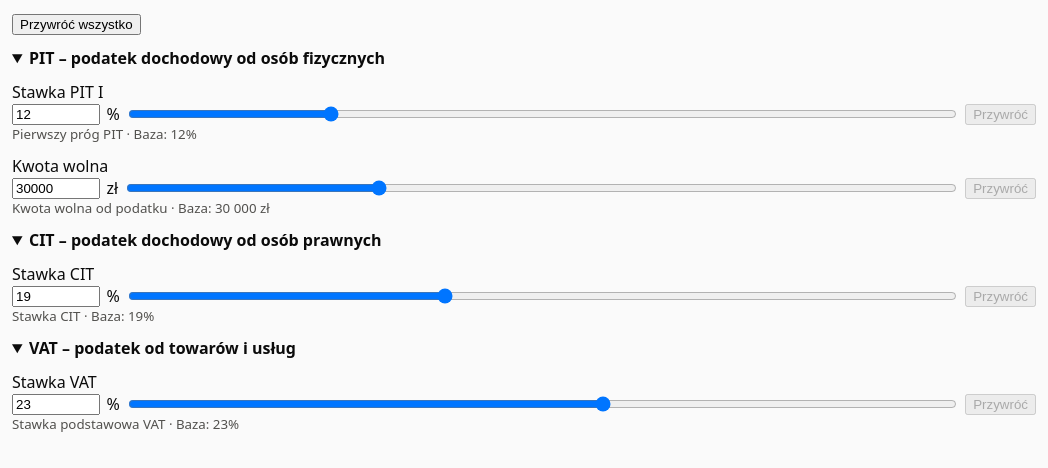
Test: ParameterPanel › per-parameter reset clears stale invalid text at default
Replace the text in the field labelled "Stawka CIT" with "80" at coordinates (56, 296), box [12,286,100,306]
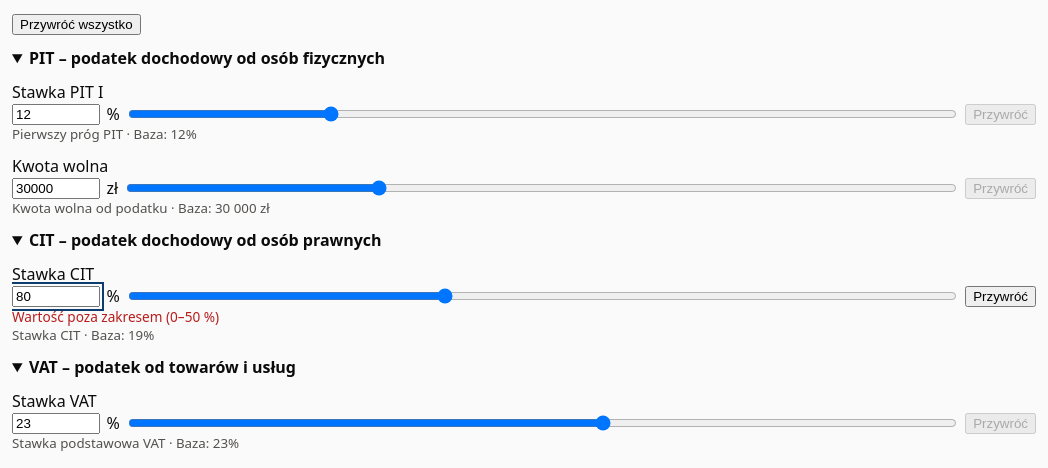
Result: the message "Wartość poza zakresem (0–50 %)" is shown at [12,307,219,326]
Click the button with aria-label "Przywróć Stawka CIT" at coordinates (1001, 296), box [965,286,1036,306]
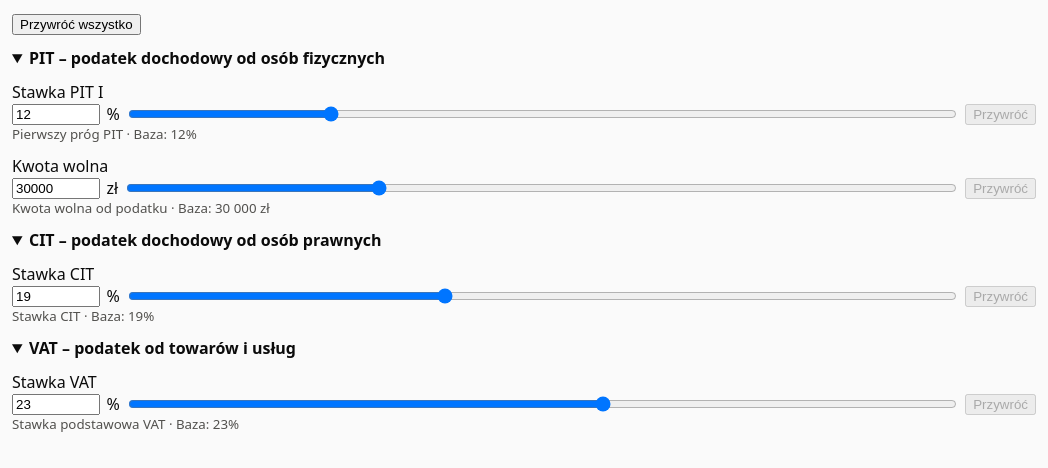
Result: the field labelled "Stawka CIT" holds "19" at [12,286,100,306]
Result: the message "Wartość poza zakresem (0–50 %)" is gone
